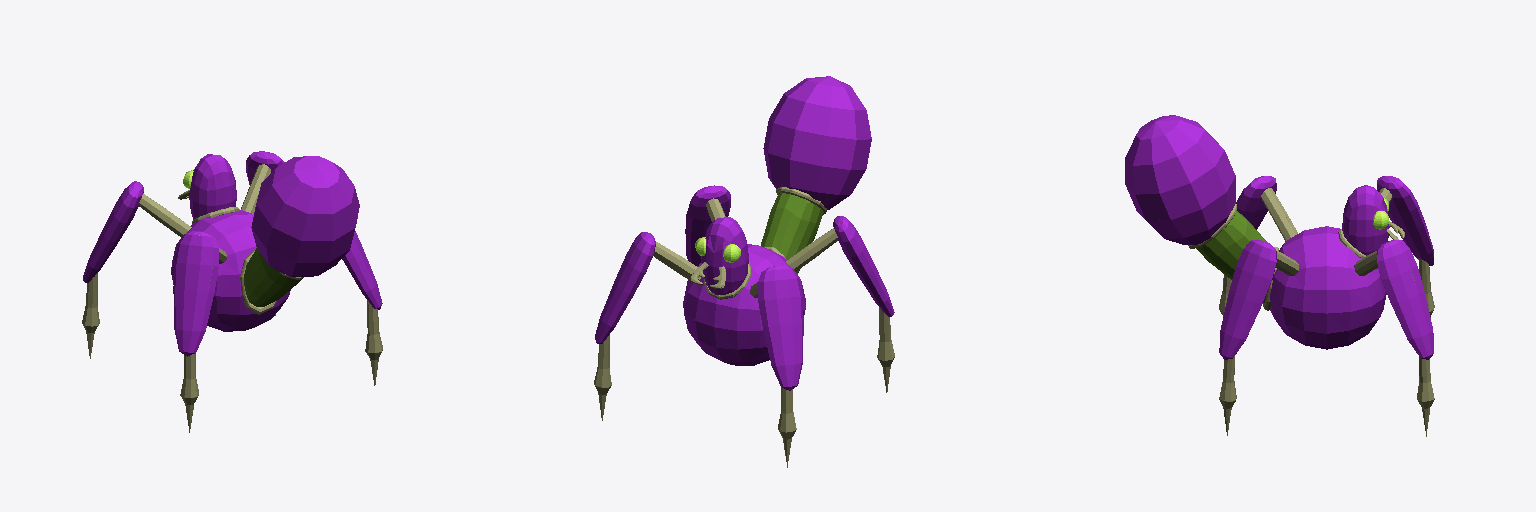
The picture shows the model from 3 angles: view 1: azimuth 30°, elevation 25°; view 2: azimuth 150°, elevation 25°; view 3: azimuth 270°, elevation 25°; orthographic projection.
Visible parts, largest first — view 1: Cube_Cube.001; view 2: Cube_Cube.001; view 3: Cube_Cube.001.
Part boxes in pixels (left/top/right/bottom): Cube_Cube.001: left=82, top=151, right=382, bottom=432; Cube_Cube.001: left=594, top=76, right=894, bottom=467; Cube_Cube.001: left=1125, top=115, right=1434, bottom=436.
Bounding box in the file's own units: 3.69 × 4.75 × 4.89.
1 materials, 1 textured.